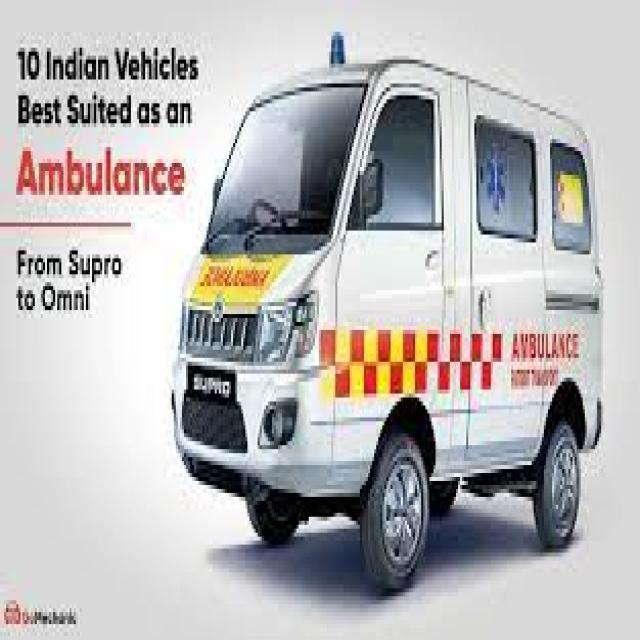Ambulance: (175, 23, 618, 593)
